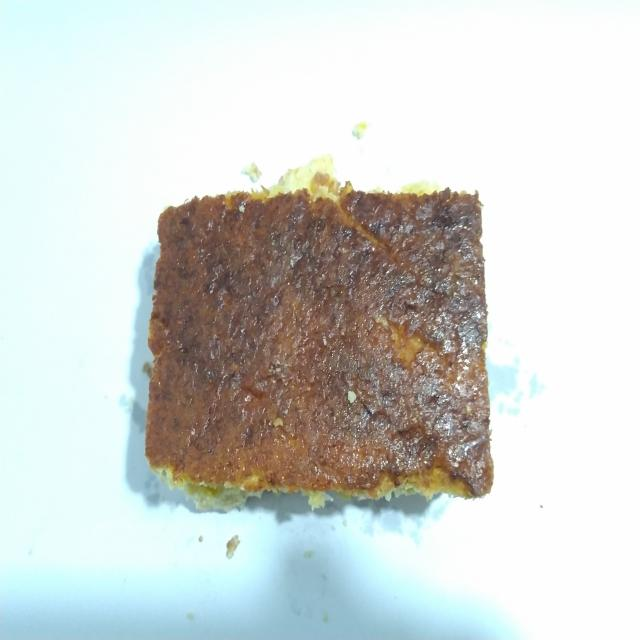Chipa_Guazu: (128, 175, 504, 525)
